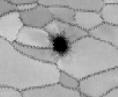good_void: (45, 28, 73, 59)
